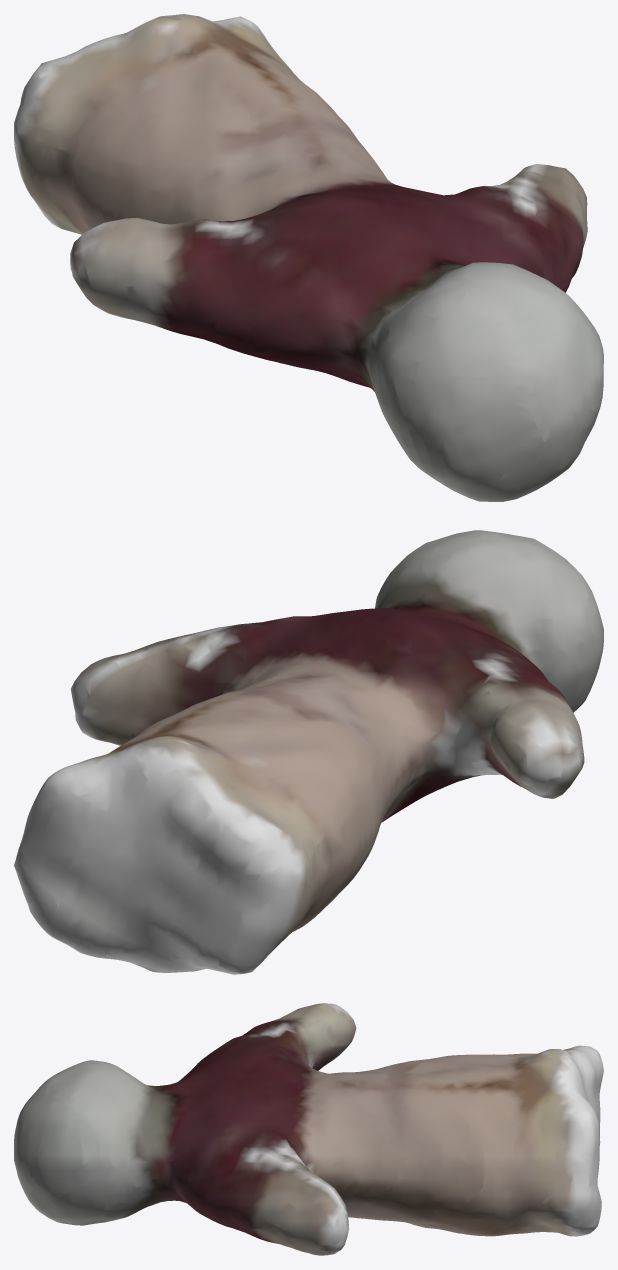
File: grandmother.glb
The picture shows the model from 3 angles, top to bottom: view 1: azimuth 30°, elevation 25°; view 2: azimuth 150°, elevation 25°; view 3: azimuth 270°, elevation 25°; orthographic projection. The views are drawn at different scales.
Bounding box in the file's own units: 0.7172 × 0.3171 × 1.
